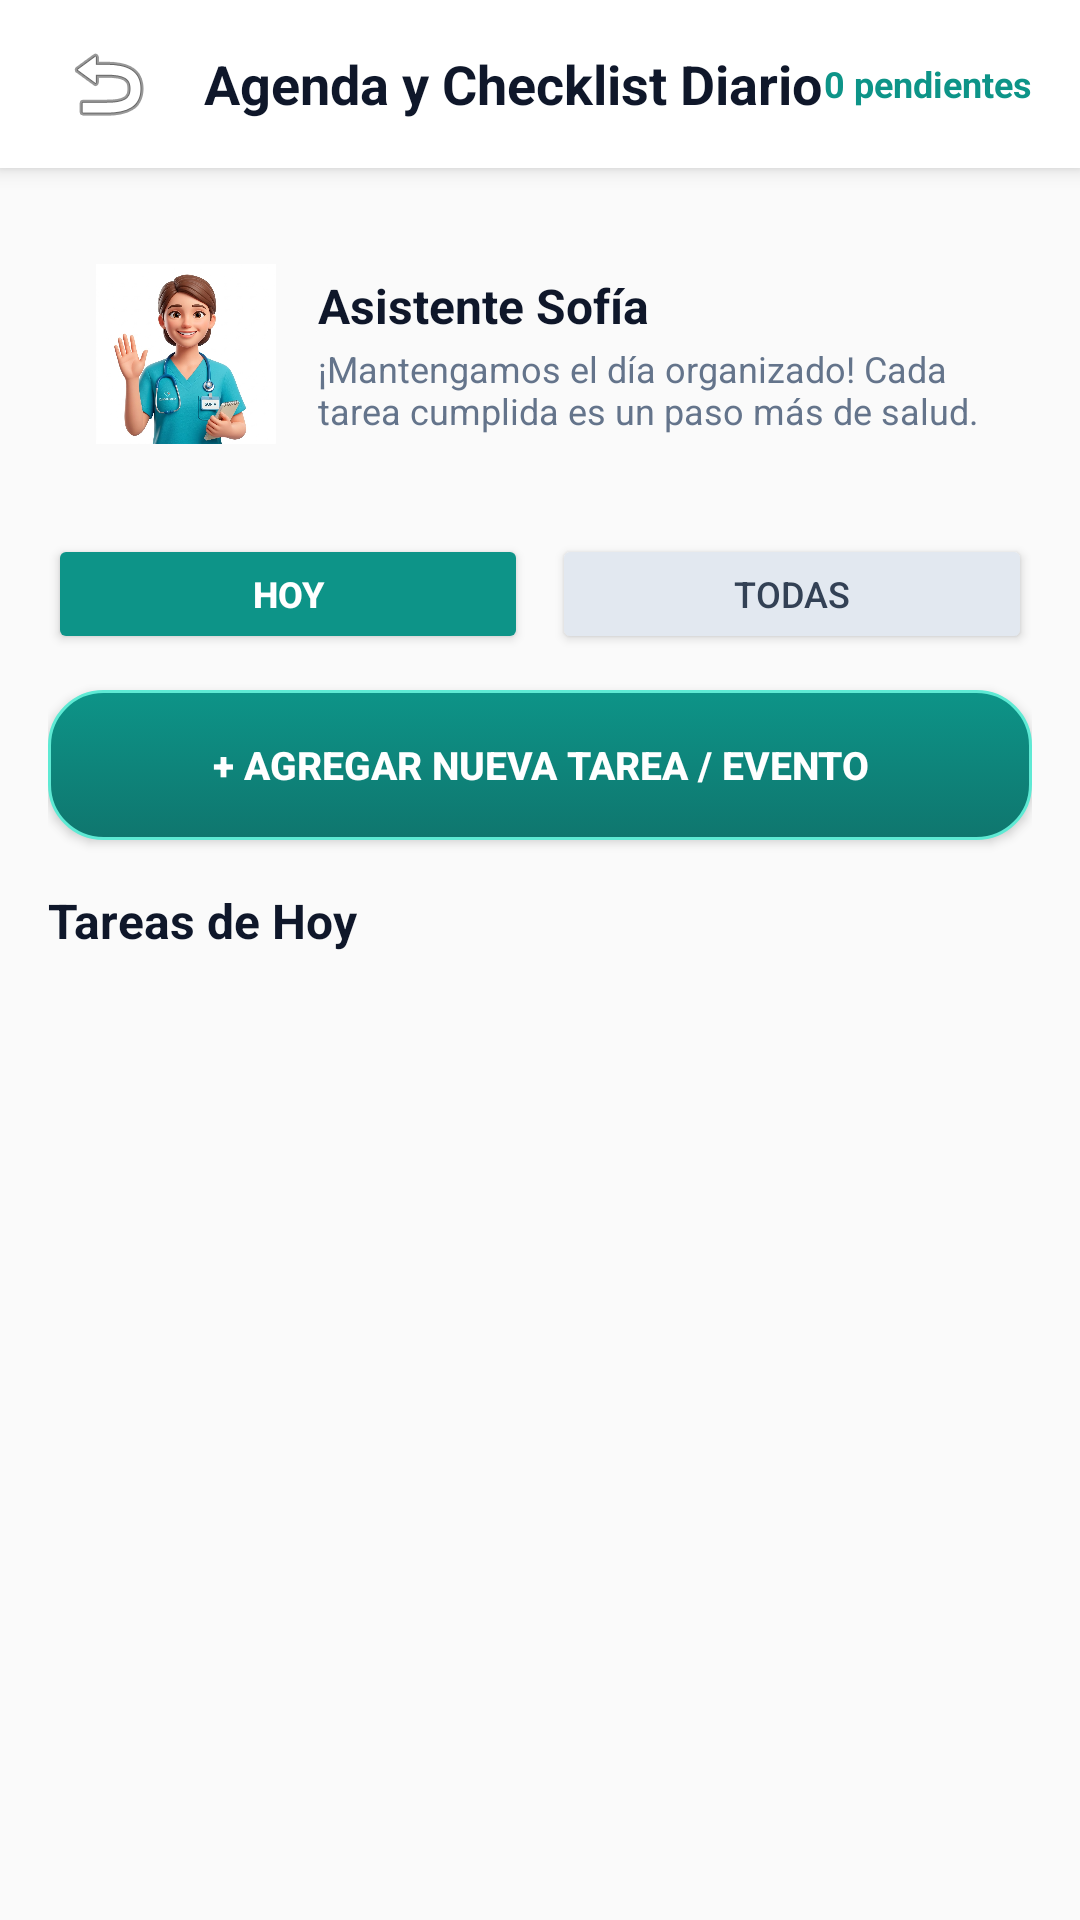

Point at icon controls on the screen. Image size 1080 × 1920, points as (x=x, y=y).
nurse: (x=180, y=359)
Regresar: (x=109, y=84)
